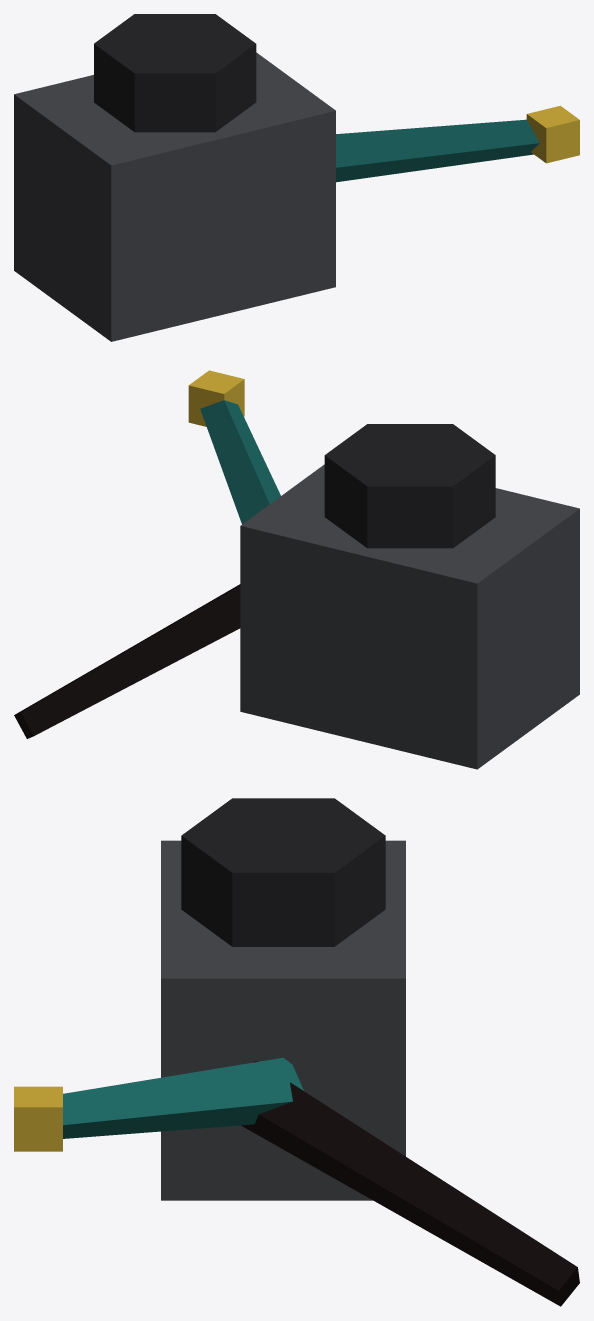
Rendered from gib_metal_03.glb.
The picture shows the model from 3 angles, top to bottom: view 1: azimuth 30°, elevation 25°; view 2: azimuth 150°, elevation 25°; view 3: azimuth 270°, elevation 25°; orthographic projection. The views are drawn at different scales.
Parts seen in each view (by area): view 1: gib_metal_03; view 2: gib_metal_03; view 3: gib_metal_03.
Boxes of the visible parts, bbox=[...] form: gib_metal_03: bbox=[14, 14, 579, 341]; gib_metal_03: bbox=[14, 370, 579, 769]; gib_metal_03: bbox=[14, 798, 579, 1306].
Bounding box in the file's own units: 0.146 × 0.0853 × 0.1386.
